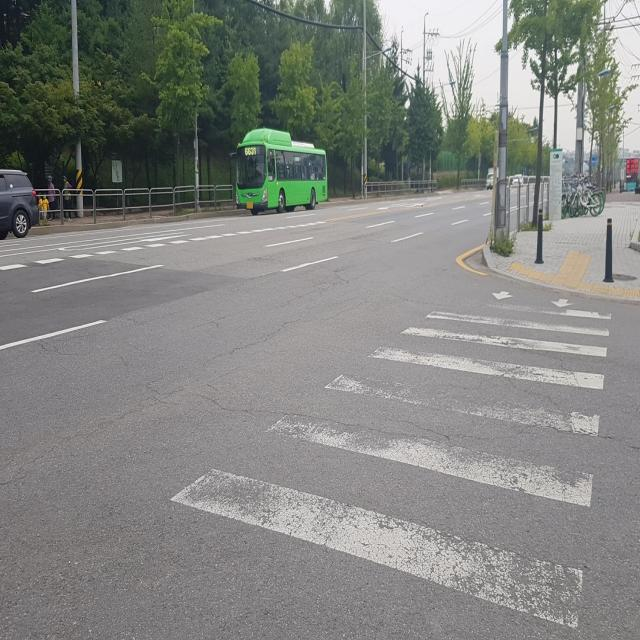횡단보도: (169, 289, 613, 632)
